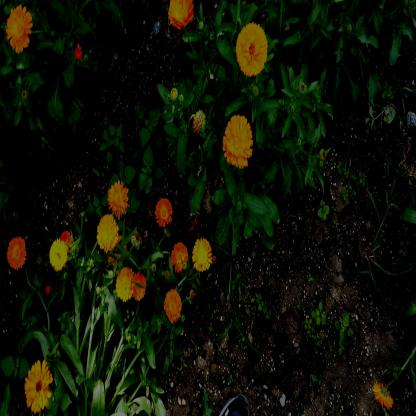marigold: (223, 113, 252, 169), (236, 22, 268, 72), (24, 361, 52, 408), (5, 5, 30, 47), (97, 213, 120, 251), (167, 0, 194, 29), (191, 237, 211, 272), (109, 183, 128, 214), (116, 266, 134, 298), (164, 288, 181, 320), (7, 238, 25, 267), (49, 240, 67, 268), (172, 243, 188, 270), (155, 199, 171, 222), (134, 272, 146, 299)
